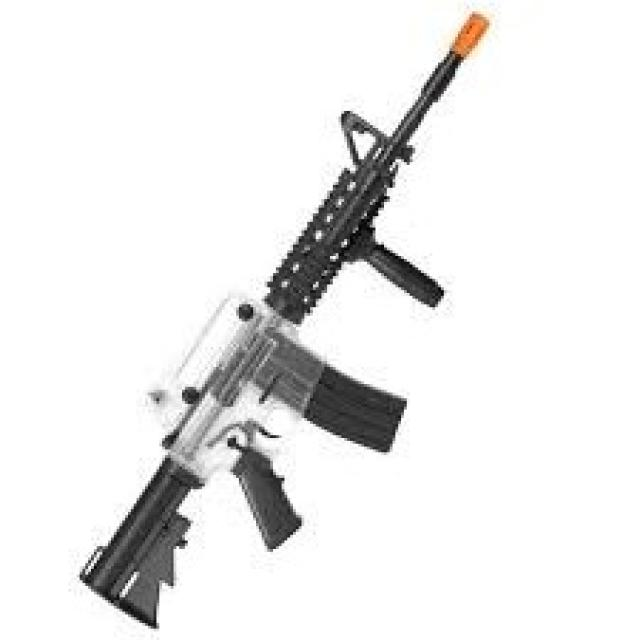rifle: (76, 9, 491, 640)
